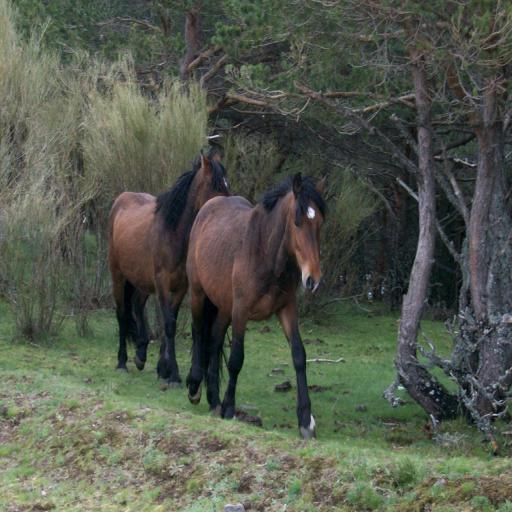horse: (186, 170, 330, 442), (106, 146, 231, 390)
